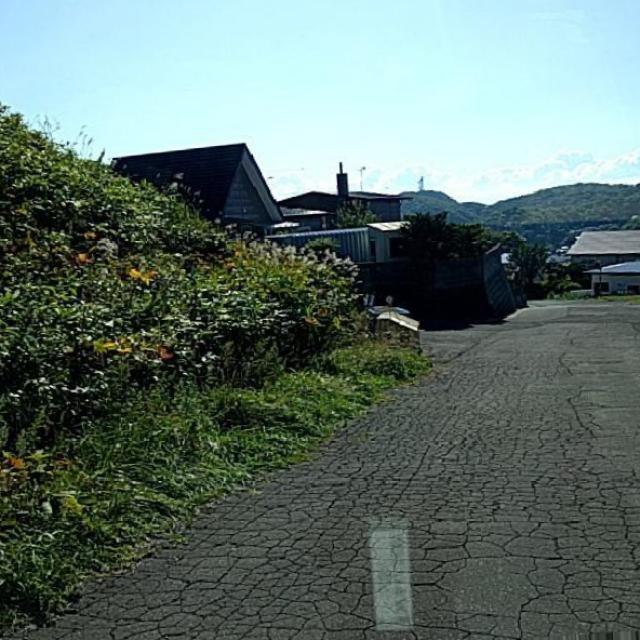Retak Buaya: (4, 368, 635, 640)
